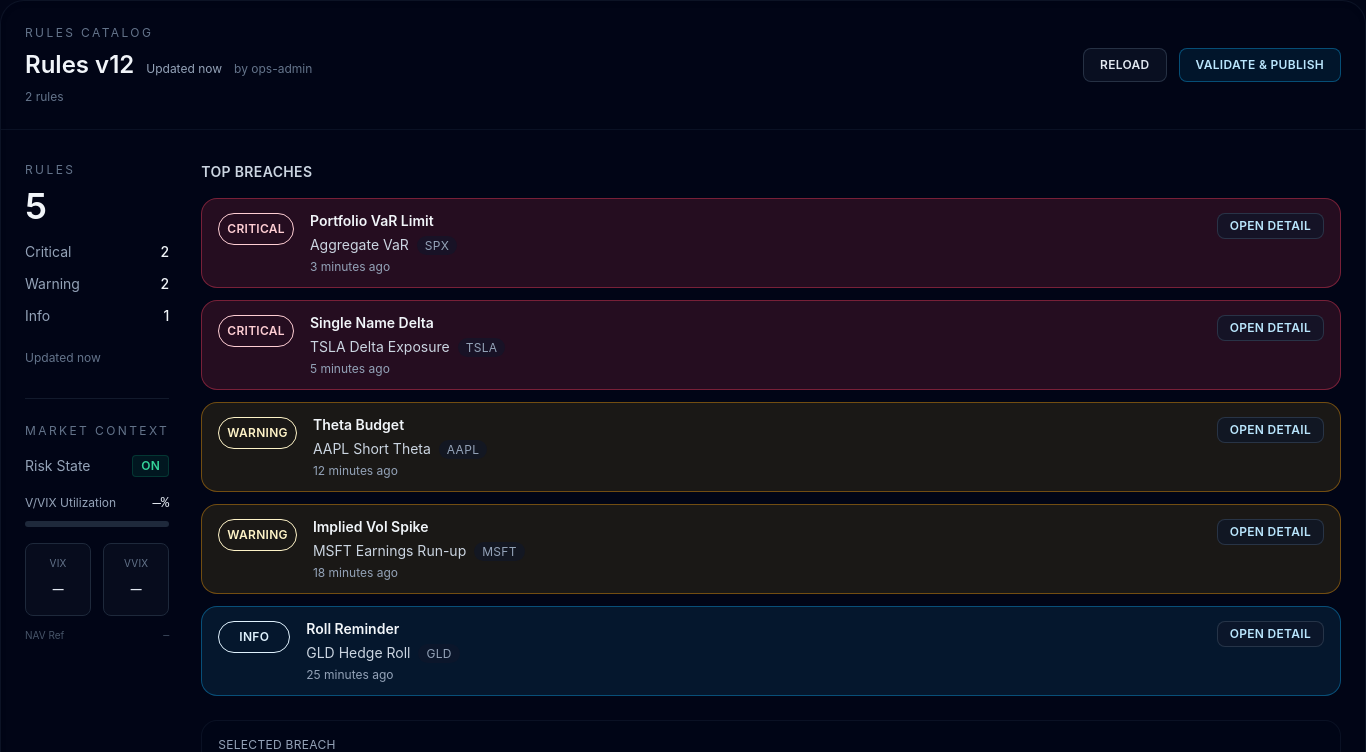
Test: RulesPanel › validates and publishes catalog updates
The image size is (1366, 752).
Expected: the text "Rules v12" is shown, [25,49,134,81]
Click the button "Validate & Publish" at point(1260, 65), box [1178,48,1341,82]
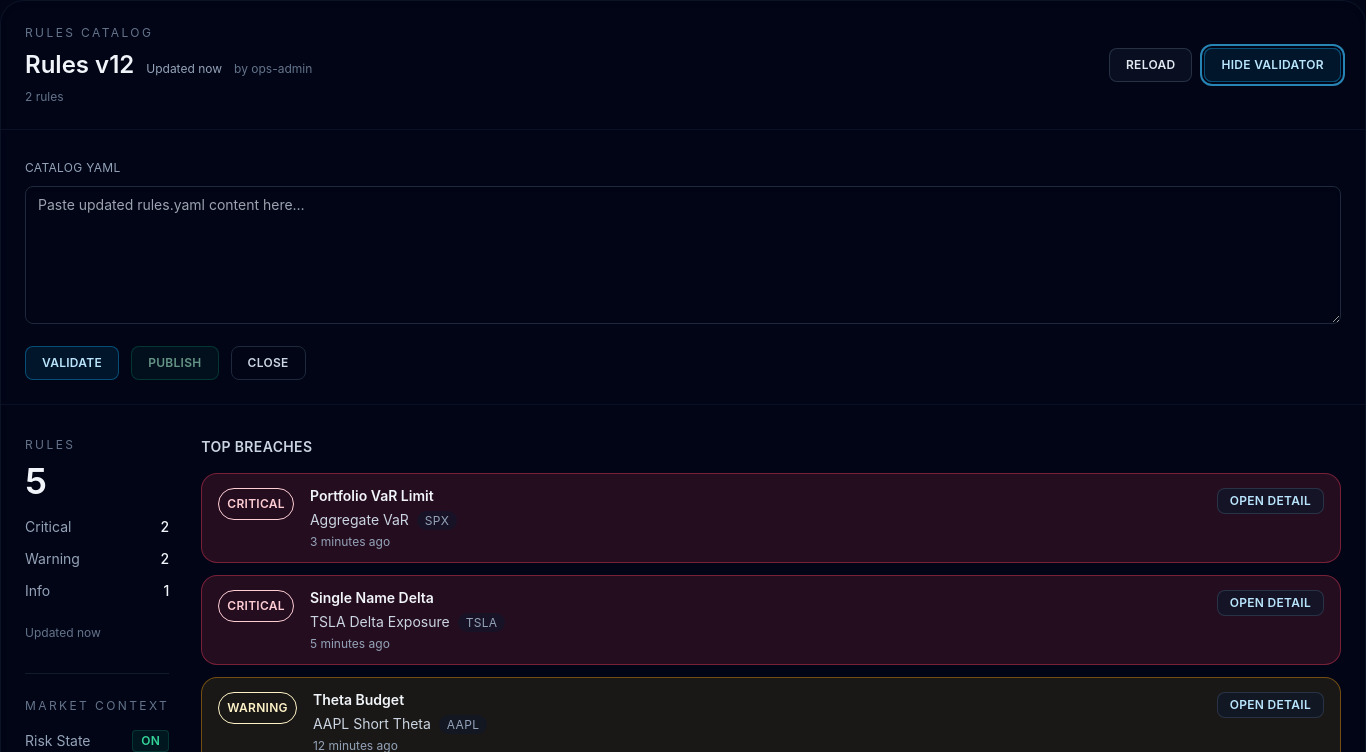
Type "rules: []" into the text box labelled "Catalog YAML" at point(683, 255), box [25,186,1341,324]
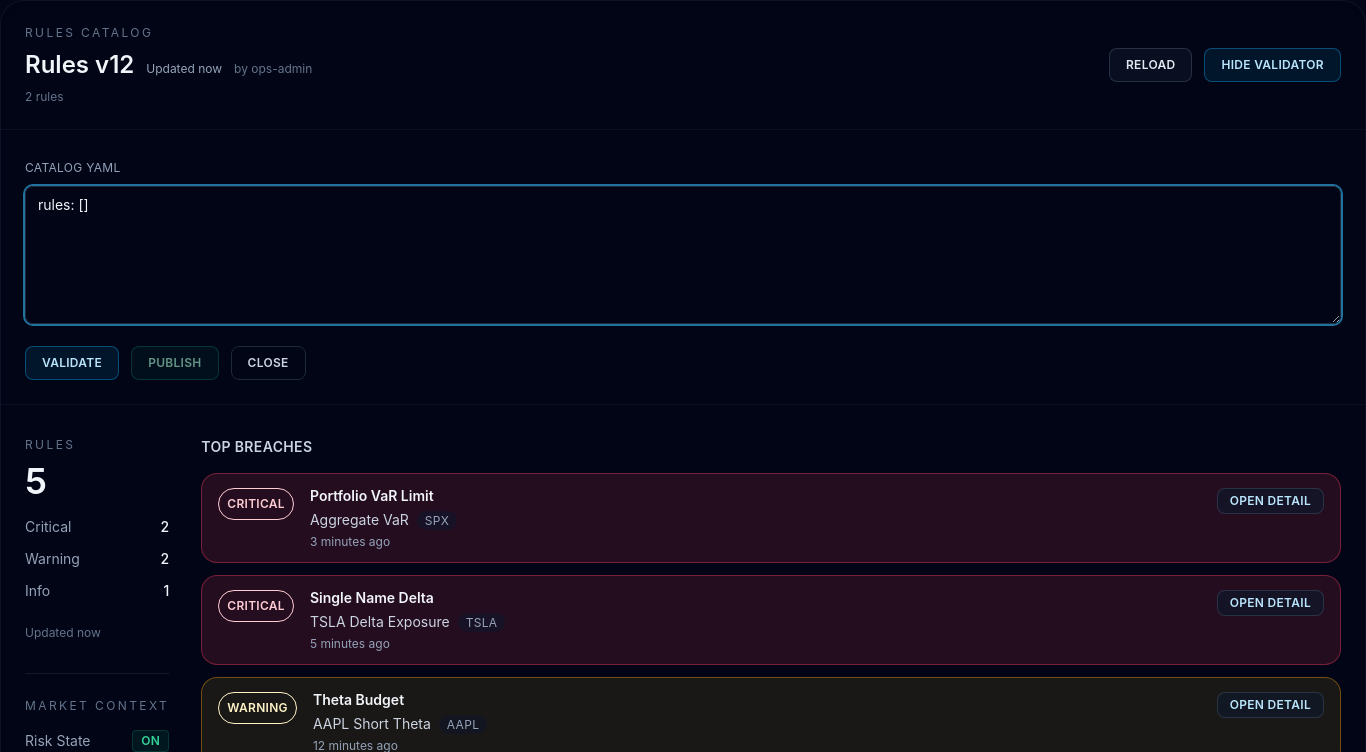
Click the button "Validate" at point(72, 363), box [25,346,119,380]
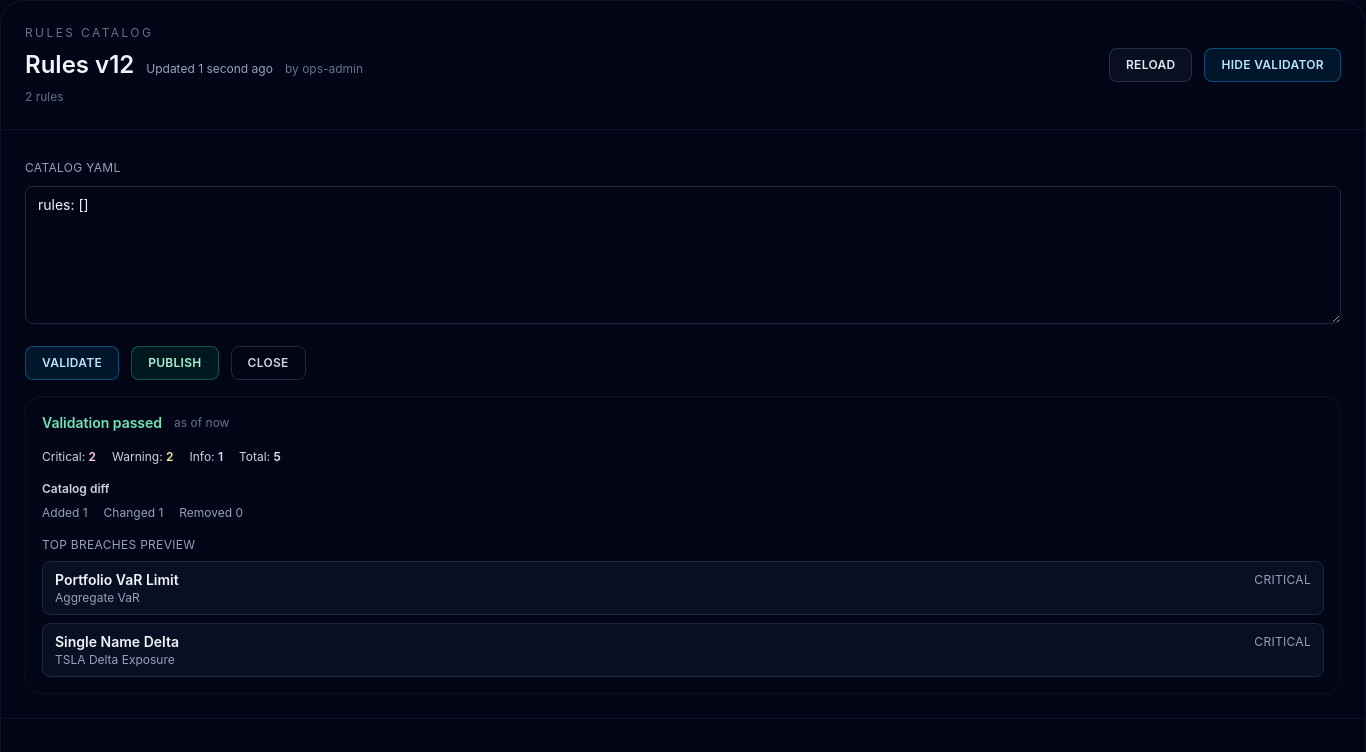
Result: the text "Validation passed" is shown at [42,413,162,433]
Result: the text "Catalog diff" is shown at [42,481,109,496]
Result: the button "Publish" is enabled
Click the button "Publish" at point(175, 363), box [131,346,219,380]
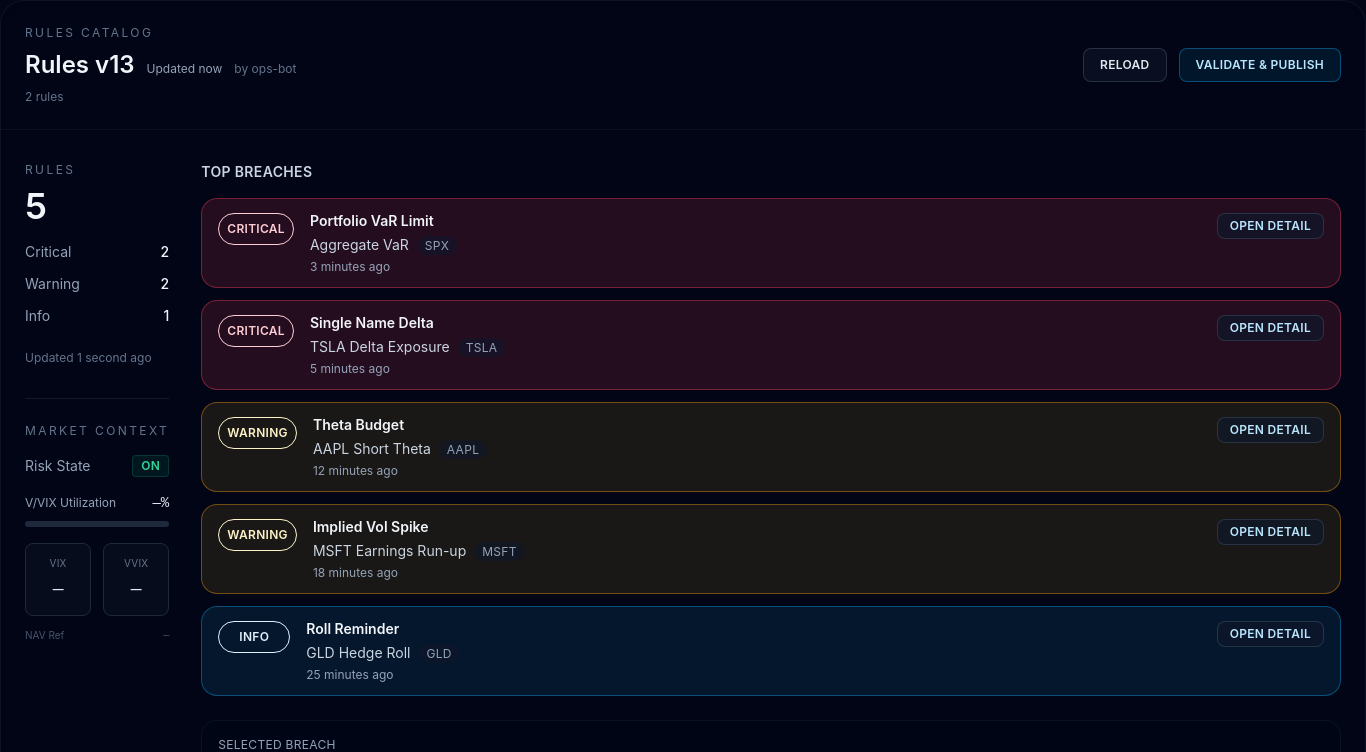
Result: the label labelled "Catalog YAML" is gone
Result: the text "Rules v13" is shown at [25,49,135,81]
